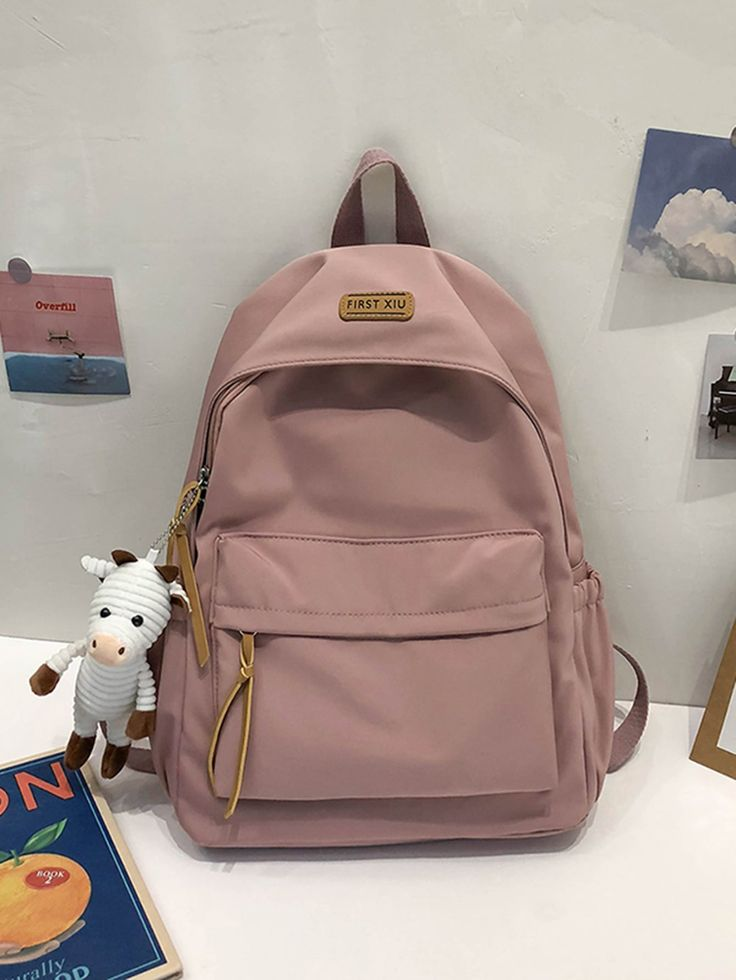nylon: (143, 145, 616, 851)
